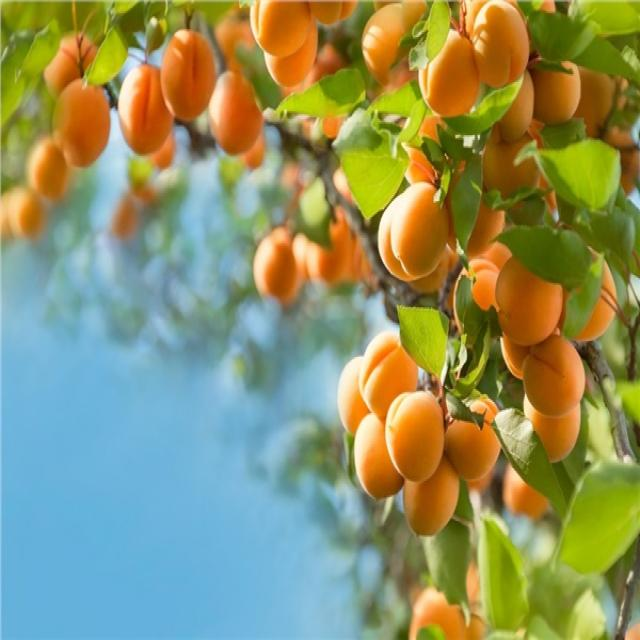kayisi: (423, 26, 486, 124), (387, 182, 449, 280), (508, 278, 570, 369), (462, 424, 530, 502), (543, 354, 598, 426), (485, 8, 531, 94), (173, 30, 215, 113), (68, 74, 105, 165), (577, 232, 613, 324), (258, 38, 320, 91), (534, 388, 578, 460), (396, 401, 441, 469), (409, 490, 462, 547), (378, 342, 415, 418), (496, 165, 544, 223), (37, 85, 81, 146), (602, 74, 640, 144), (369, 22, 412, 82), (135, 76, 174, 142), (477, 269, 512, 342), (339, 372, 371, 447), (217, 110, 261, 161), (420, 601, 477, 640), (22, 210, 72, 254), (32, 165, 75, 216), (324, 237, 355, 306), (502, 475, 548, 521), (354, 439, 390, 497), (555, 66, 580, 140), (270, 253, 302, 307), (469, 209, 502, 259), (260, 20, 297, 60), (49, 44, 100, 66), (314, 0, 344, 37)
yaprak: (544, 132, 632, 223), (344, 110, 418, 215), (485, 519, 547, 638), (546, 13, 629, 82), (0, 20, 160, 54), (582, 471, 632, 579), (512, 227, 585, 275), (434, 112, 474, 186), (482, 97, 527, 128), (624, 384, 640, 447), (286, 97, 386, 106)
